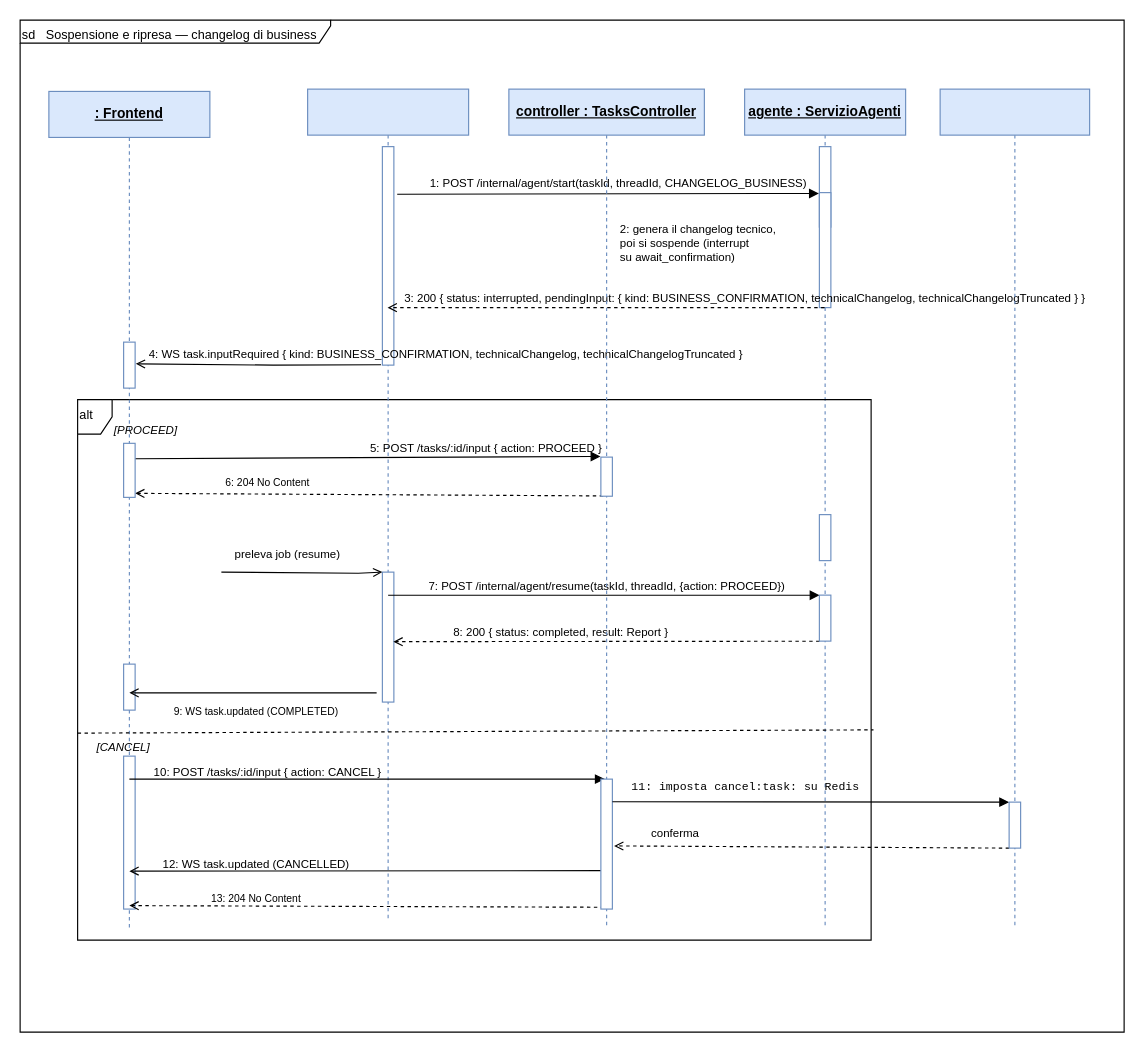
The diagram is 1144 pixels wide and 1052 high, and some of its shapes have lost their labels. Each missing label, with the box of its shape:
: Redis: (939, 88, 1090, 926)
worker : TaskProcessor: (306, 88, 469, 919)
